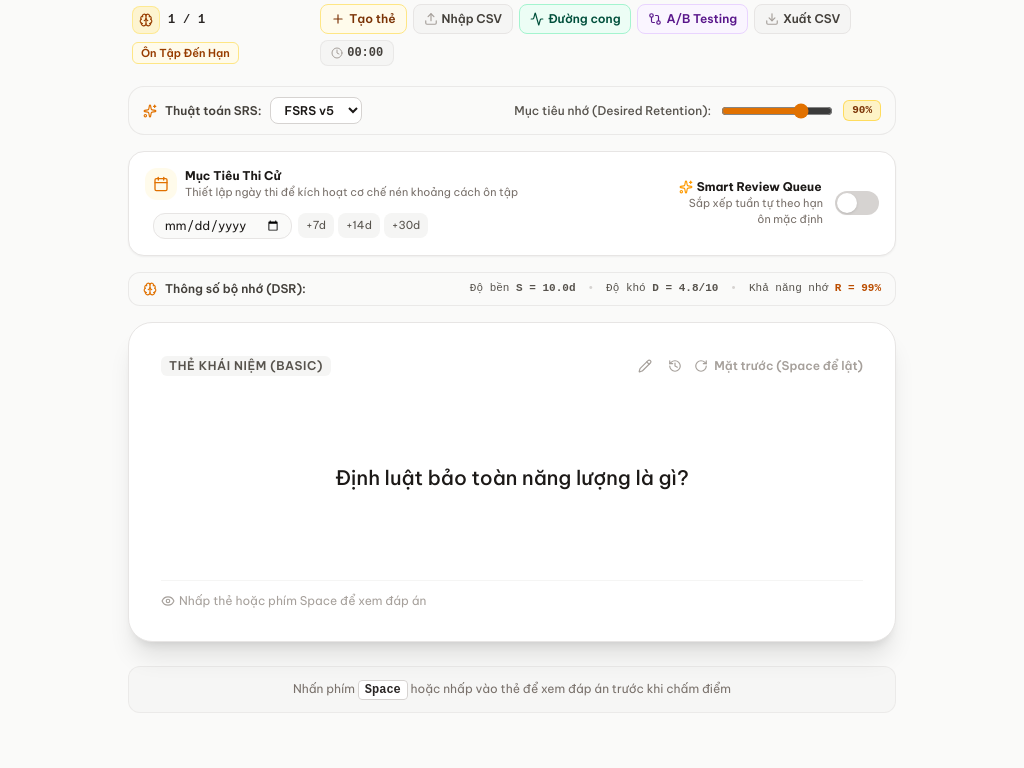
Test case: FSRS v5 UI Integration Tests (Phase 3B) › FlashcardReviewStudio FSRS v5 Controls & DSR Telemetry › updates badge, localStorage, and contracts rating intervals when slider moves from 0.90 to 0.95
// Flip card to reveal rating buttons
Click the text "Định luật bảo toàn năng lượng là gì?".
click(512, 477)  # box [335, 465, 689, 490]
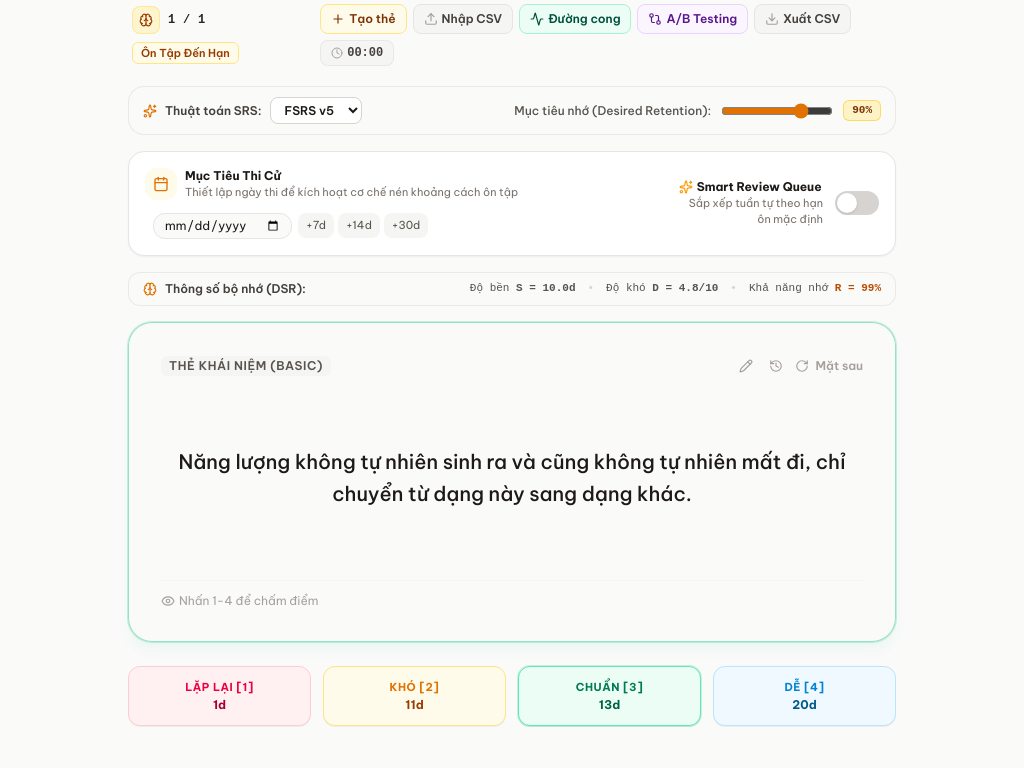
// Adjust slider to 0.95
Set the slider with test id "slider-desired-retention" to "0.95" at (825, 110), box [721, 102, 833, 118]
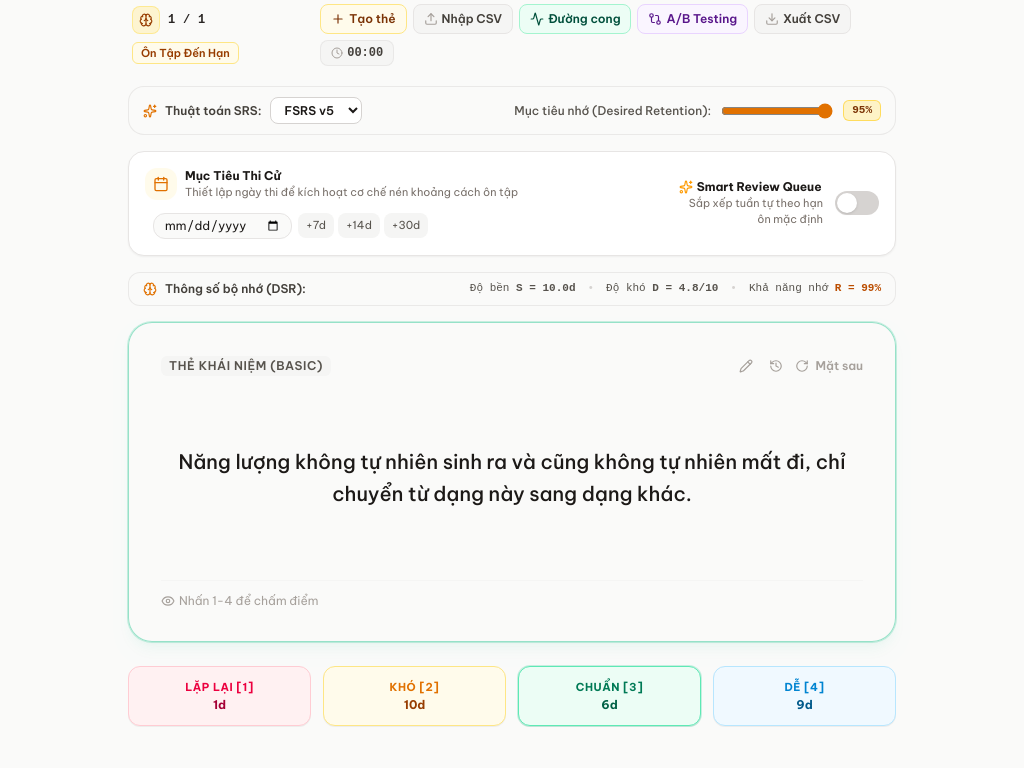
Expected: the text with test id "badge-desired-retention" reads "95%", [843, 100, 881, 121]
